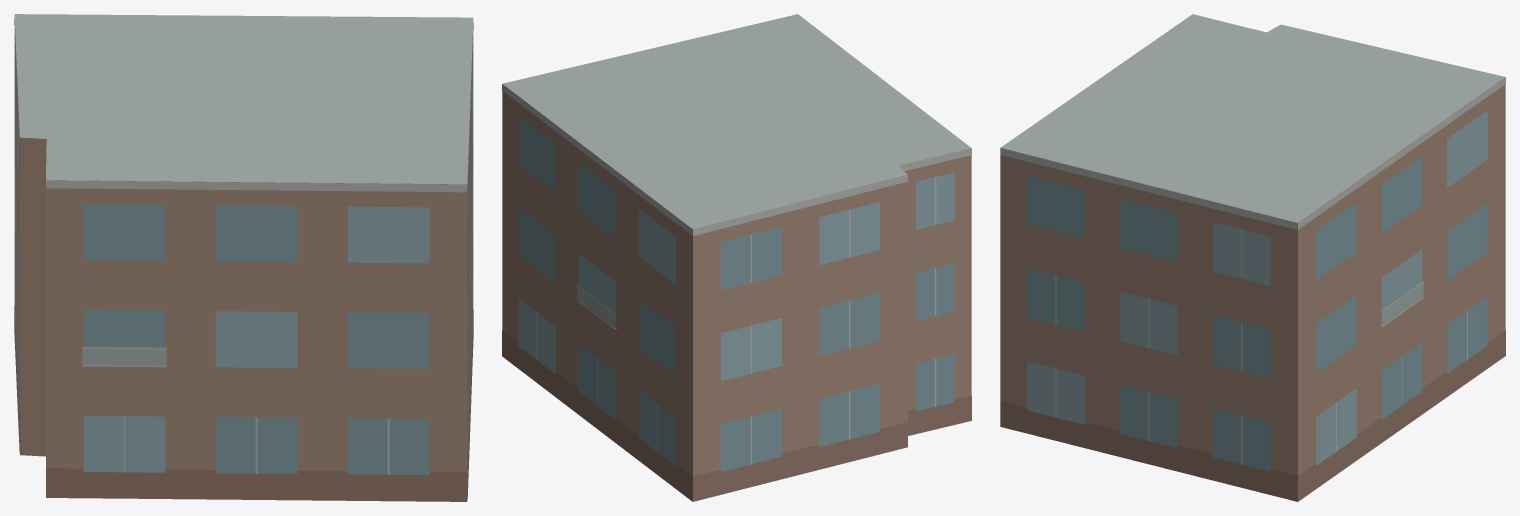
File: survey-upis-32768543.glb
The picture shows the model from 3 angles, left to right: view 1: azimuth 30°, elevation 25°; view 2: azimuth 150°, elevation 25°; view 3: azimuth 270°, elevation 25°; orthographic projection. The views are drawn at different scales.
Parts seen in each view (by area): view 1: survey-upis-32768543.tmp; view 2: survey-upis-32768543.tmp; view 3: survey-upis-32768543.tmp.
Part boxes in pixels (left/top/right/bottom): survey-upis-32768543.tmp: left=14, top=14, right=473, bottom=501; survey-upis-32768543.tmp: left=502, top=14, right=971, bottom=501; survey-upis-32768543.tmp: left=1000, top=14, right=1505, bottom=501.
Bounding box in the file's own units: 15.59 × 9.7 × 15.94.
